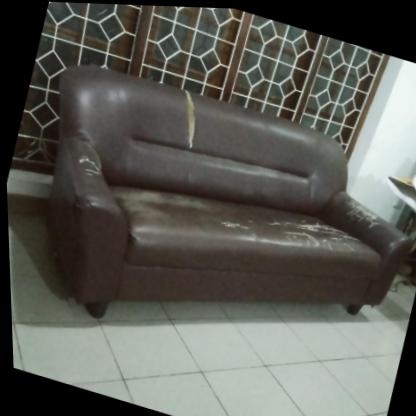Sofa: (1, 50, 416, 401)
